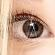eye: (22, 20, 43, 38)
